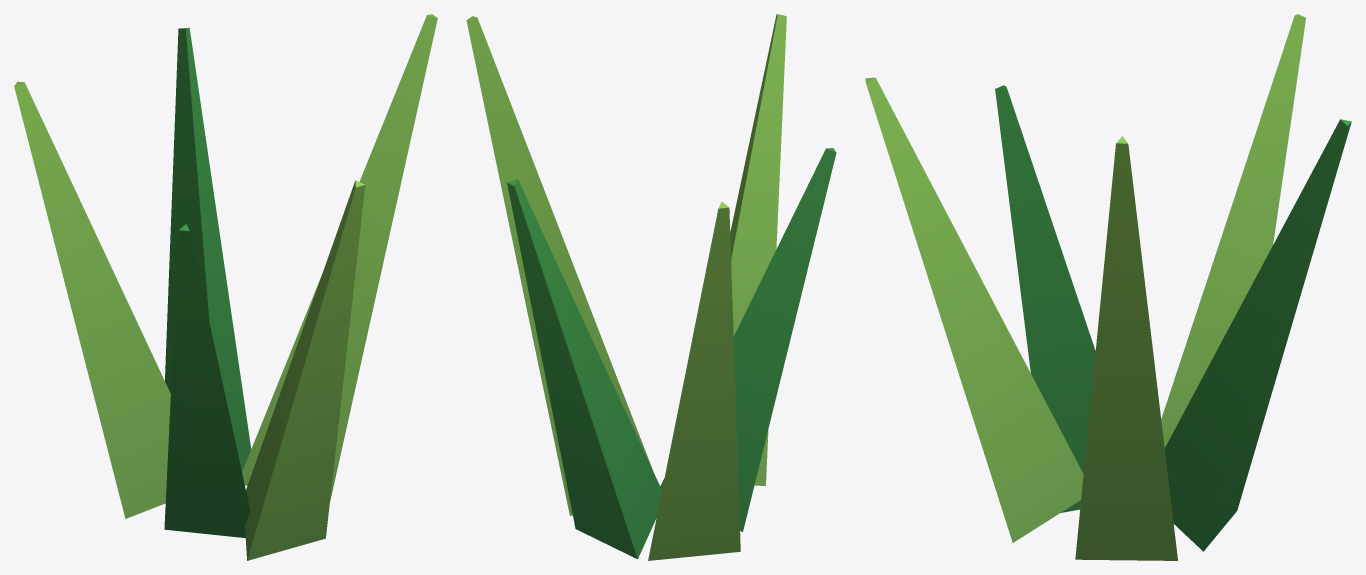
File: tiny_tuft.glb
3 views of the same model, side by side, from view 1: azimuth 30°, elevation 25°; view 2: azimuth 150°, elevation 25°; view 3: azimuth 270°, elevation 25° (orthographic). The views are drawn at different scales.
Visible parts, largest first — view 1: tiny_tuft; view 2: tiny_tuft; view 3: tiny_tuft.
Boxes of the visible parts, <box> form: tiny_tuft: <box>14,14,437,560</box>; tiny_tuft: <box>466,14,836,560</box>; tiny_tuft: <box>865,14,1351,560</box>.
Bounding box in the file's own units: 0.1578 × 0.1992 × 0.1803.
